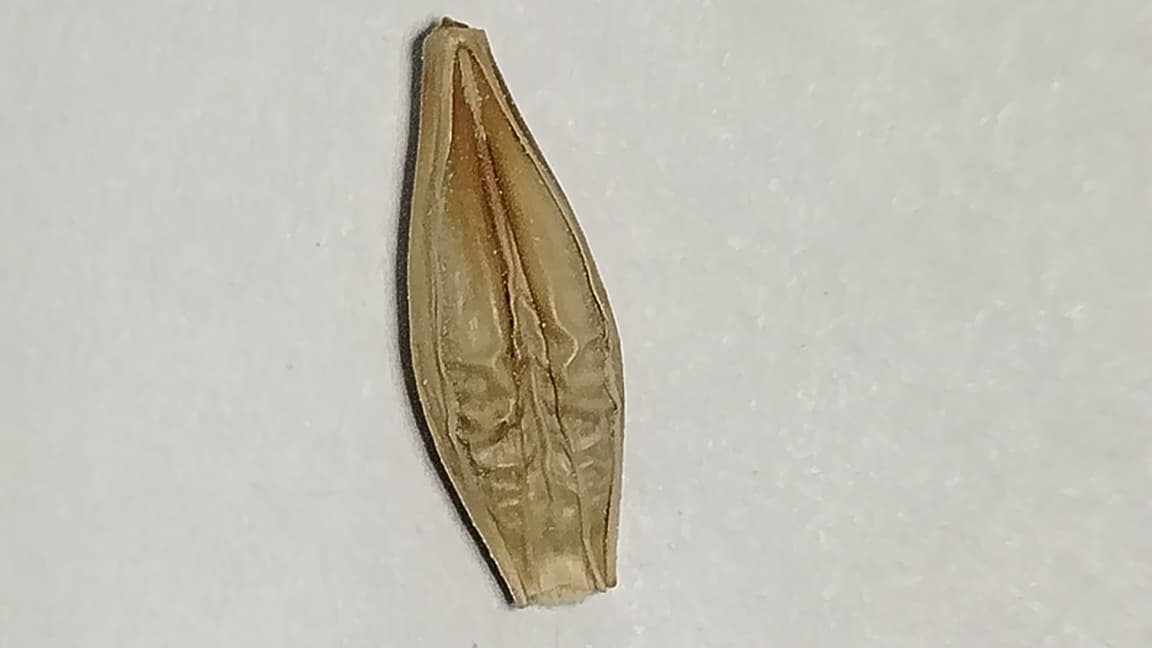healthy-50-40: (409, 28, 623, 606)
shriveledseed: (405, 329, 625, 512)
